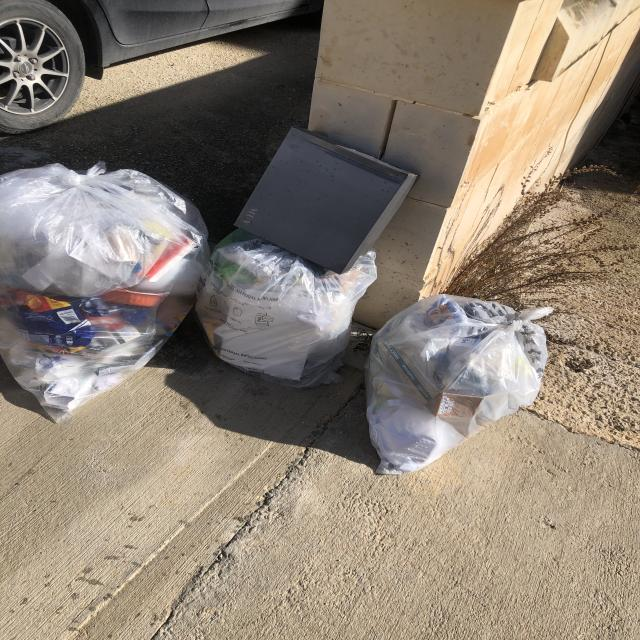Other: (224, 125, 419, 275)
Recycled Waste -Grey or Green Bag-: (1, 163, 205, 434), (358, 288, 564, 487), (192, 222, 383, 395)
